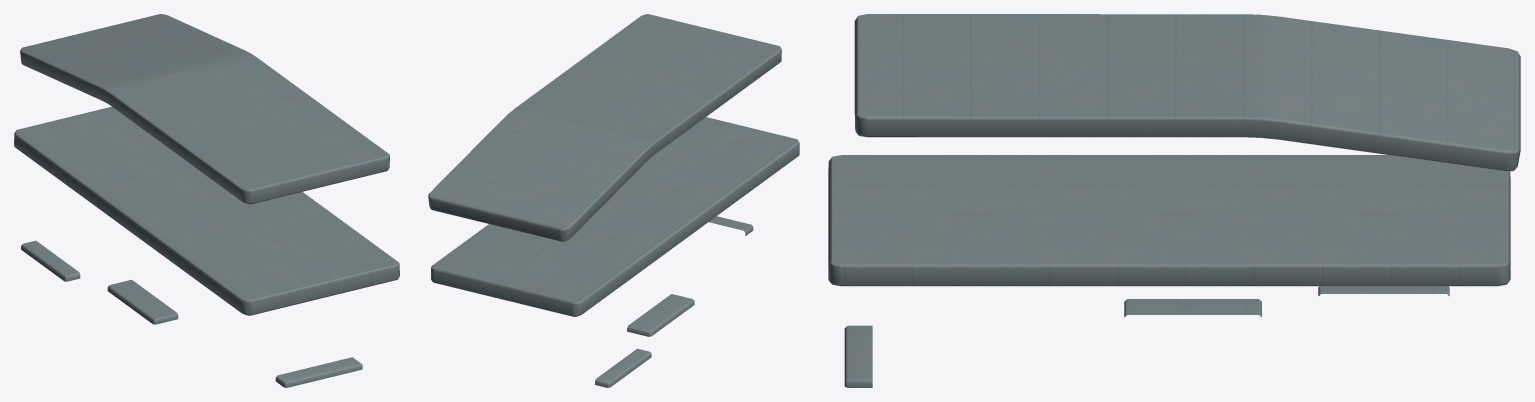
Rendered from cybercity_building_house_04_02.fbx.
3 views of the same model, side by side, from view 1: azimuth 30°, elevation 25°; view 2: azimuth 150°, elevation 25°; view 3: azimuth 270°, elevation 25° (orthographic). The views are drawn at different scales.
Parts seen in each view (by area): view 1: cybercity_building_house_04_02; view 2: cybercity_building_house_04_02; view 3: cybercity_building_house_04_02.
Boxes of the visible parts, left/top/right/bottom form: cybercity_building_house_04_02: left=14, top=14, right=399, bottom=387; cybercity_building_house_04_02: left=428, top=14, right=799, bottom=387; cybercity_building_house_04_02: left=828, top=14, right=1520, bottom=387.
Size of the model in its own units: 963 by 1102 by 2350.
